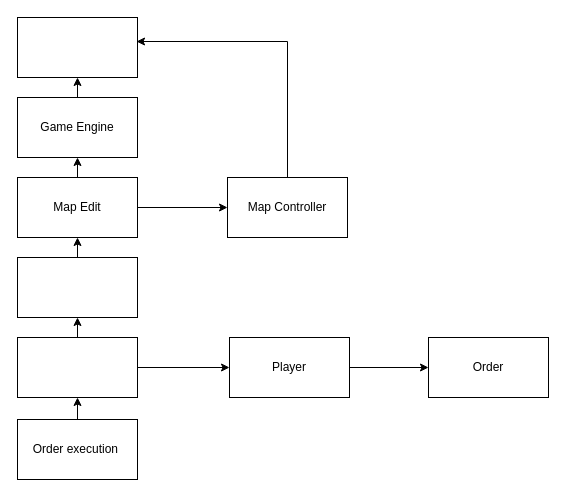
Some shapes in this 566 by 497 pixel diagram are drawn without their labels. The box of each missing label's shape, as (x1, y1, x2, y2) in pixels:
Map: (16, 16, 138, 78)
Order Creation: (16, 336, 138, 398)
StartUp: (16, 256, 138, 318)
